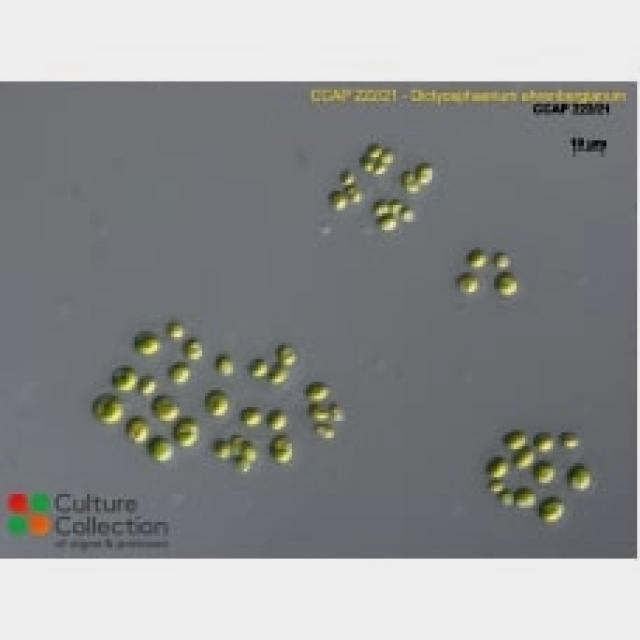Green Algae: (92, 393, 124, 424), (132, 329, 160, 362), (536, 494, 567, 522), (149, 435, 177, 463), (202, 388, 230, 416), (152, 393, 180, 421), (269, 432, 292, 466), (120, 418, 148, 444), (109, 365, 135, 393), (166, 359, 193, 385), (567, 463, 592, 491), (511, 483, 536, 511), (373, 210, 399, 236), (238, 404, 264, 430), (458, 270, 480, 300), (500, 429, 528, 452), (533, 458, 556, 486), (264, 362, 289, 387), (399, 168, 421, 196), (323, 188, 348, 211), (497, 272, 519, 298), (210, 354, 236, 376), (485, 458, 511, 480), (236, 438, 258, 463), (466, 244, 486, 270), (168, 317, 188, 343), (300, 382, 332, 398), (488, 250, 514, 269), (264, 409, 292, 426), (211, 438, 230, 460), (536, 430, 556, 449), (416, 160, 432, 182), (368, 143, 382, 160), (371, 197, 382, 210)
